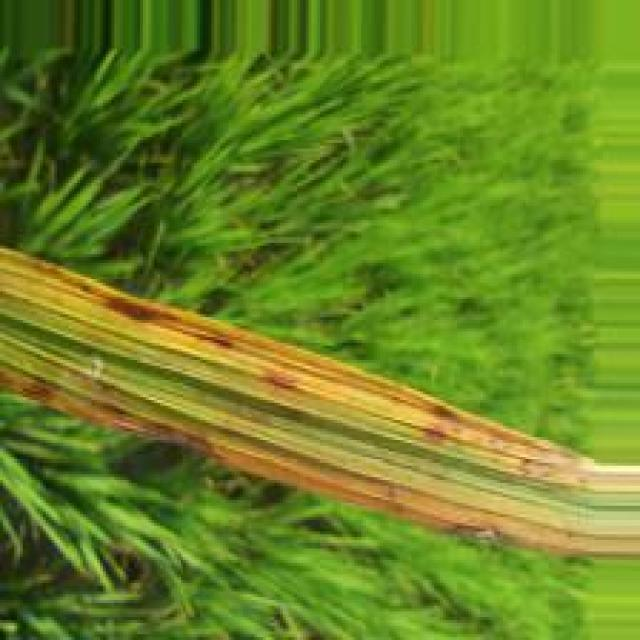Narrow_Brown_Leaf_Spot: (0, 239, 640, 503), (0, 359, 640, 562)
